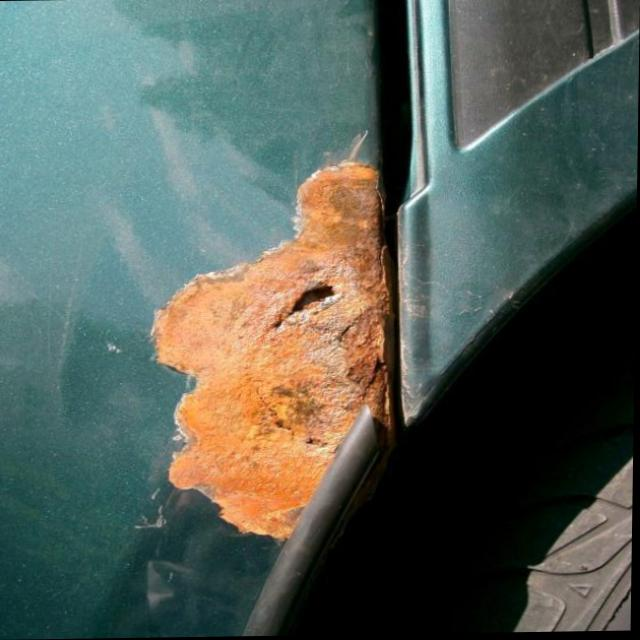Rust: (137, 148, 406, 552)
